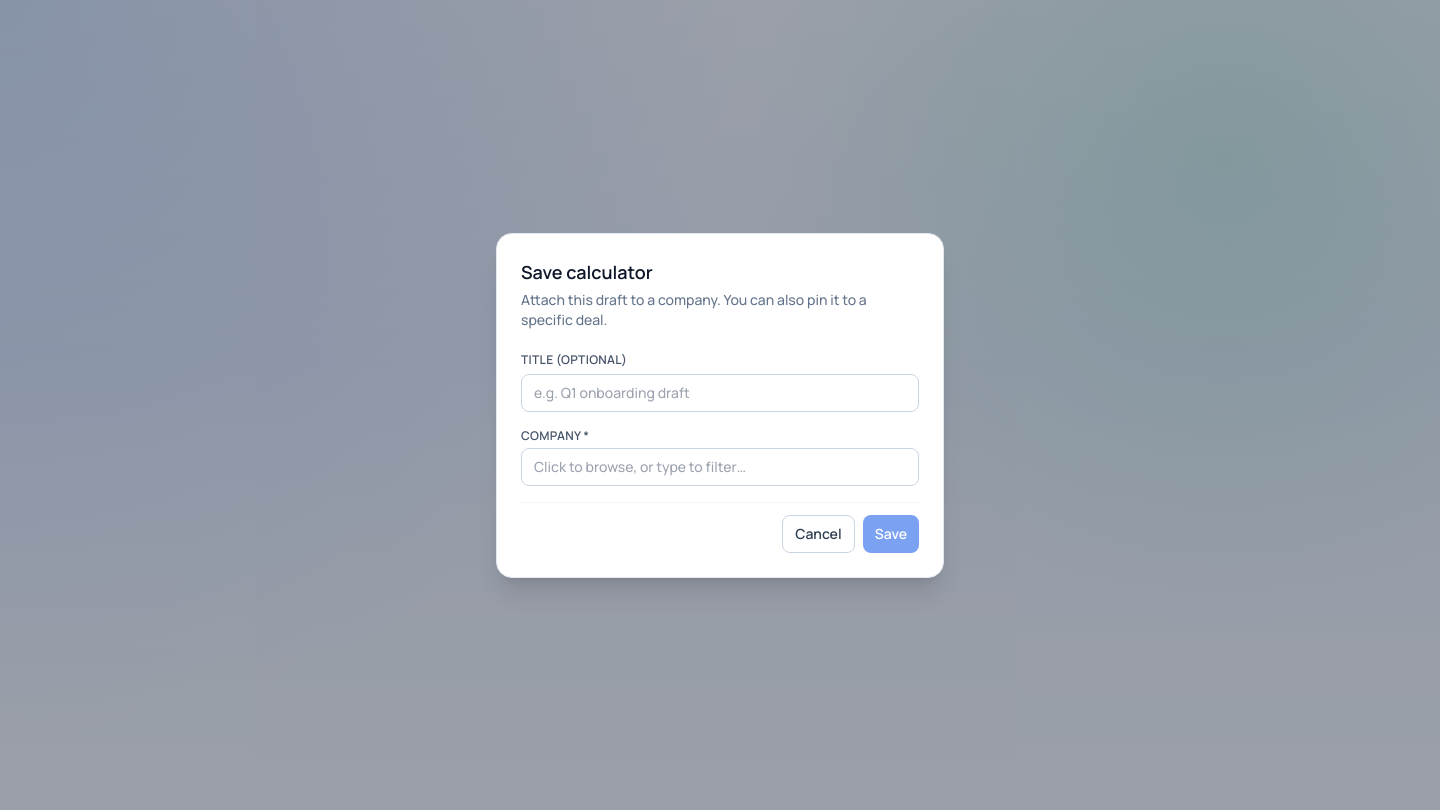
it: SaveCalculatorModal — submit › renders ApiError message on backend failure
The width and height of the screenshot is (1440, 810).
Type "Ac" into the dropdown with placeholder "Click to browse, or type to filter…" at (720, 466), box [521,448,919,486]
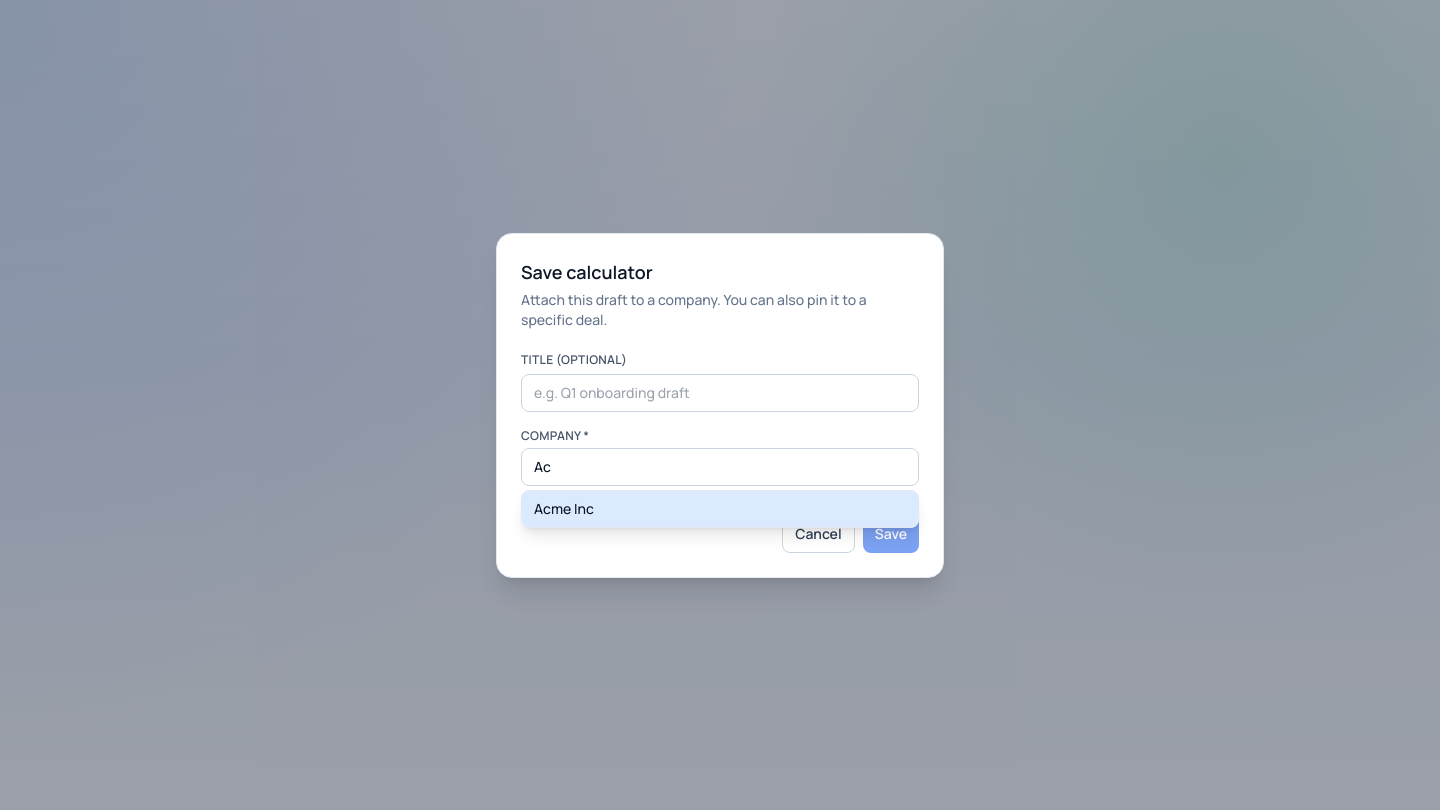
Check: the text "Acme Inc" is shown, box [534,498,594,518]
Press the mouse on the option "Acme Inc" at (564, 508), box [522,490,918,526]
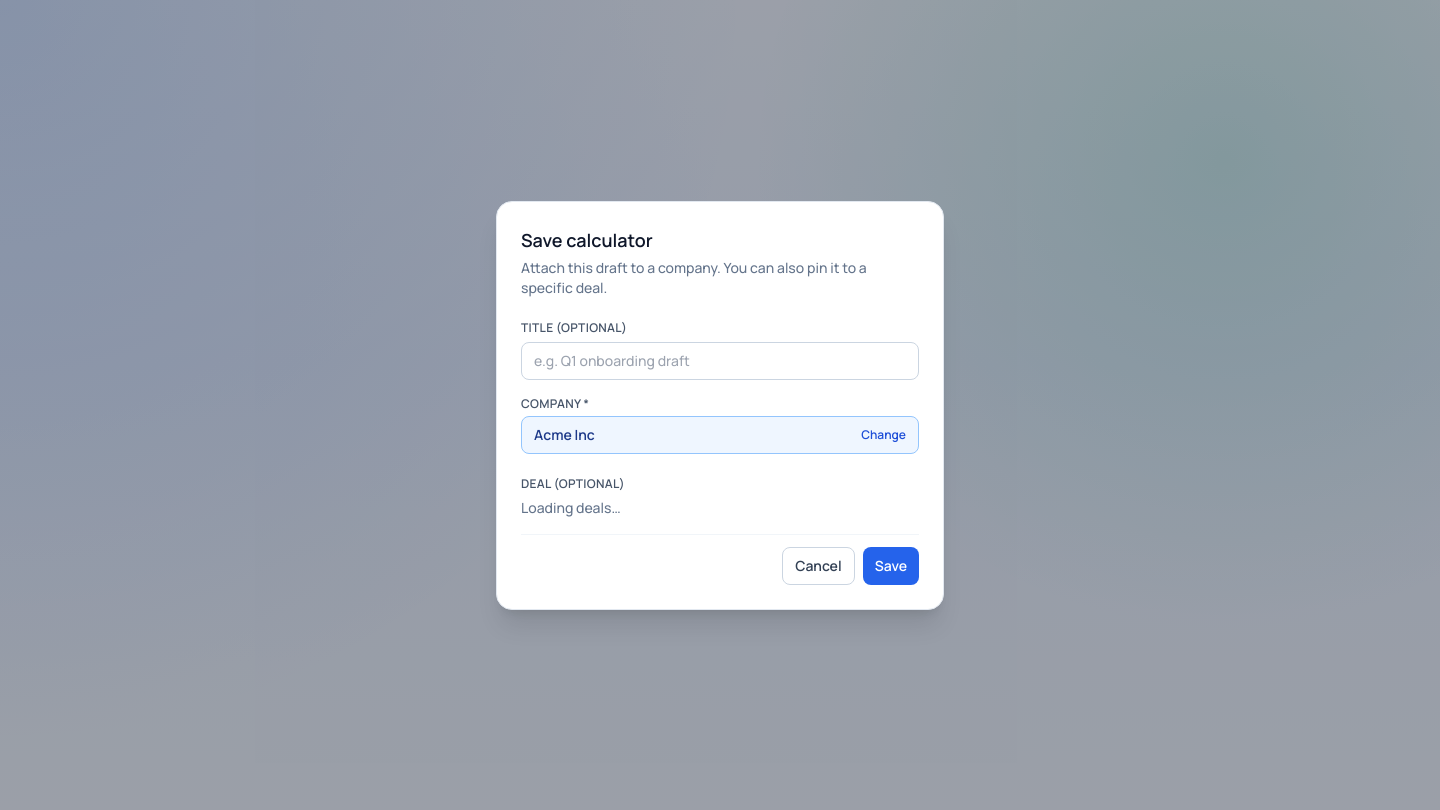
Check: the button "Change" is shown, box [861,426,906,442]
Click the button "Save" at (891, 566), box [863,546,919,584]
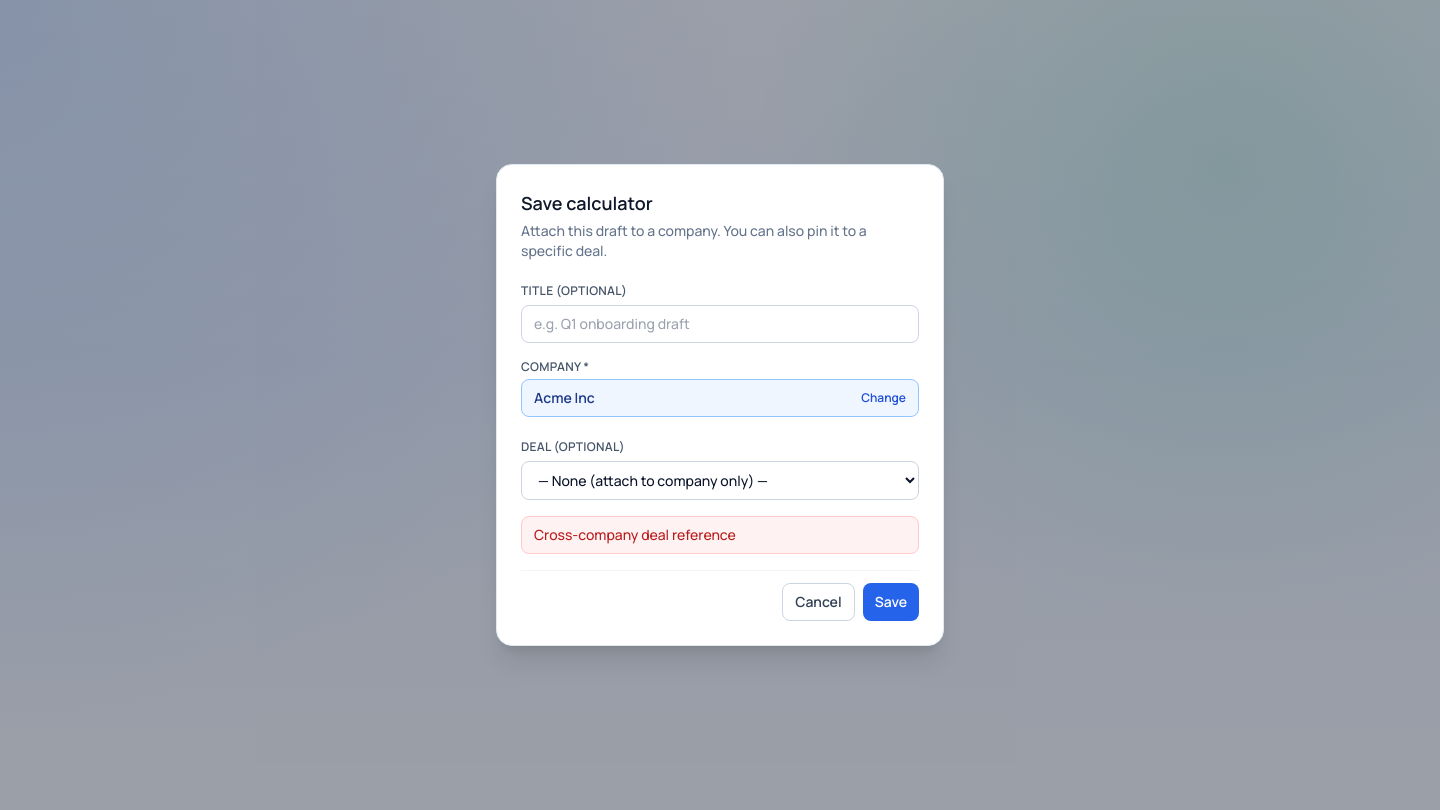
Check: the message shows "Cross-company", box [534,525,736,544]
